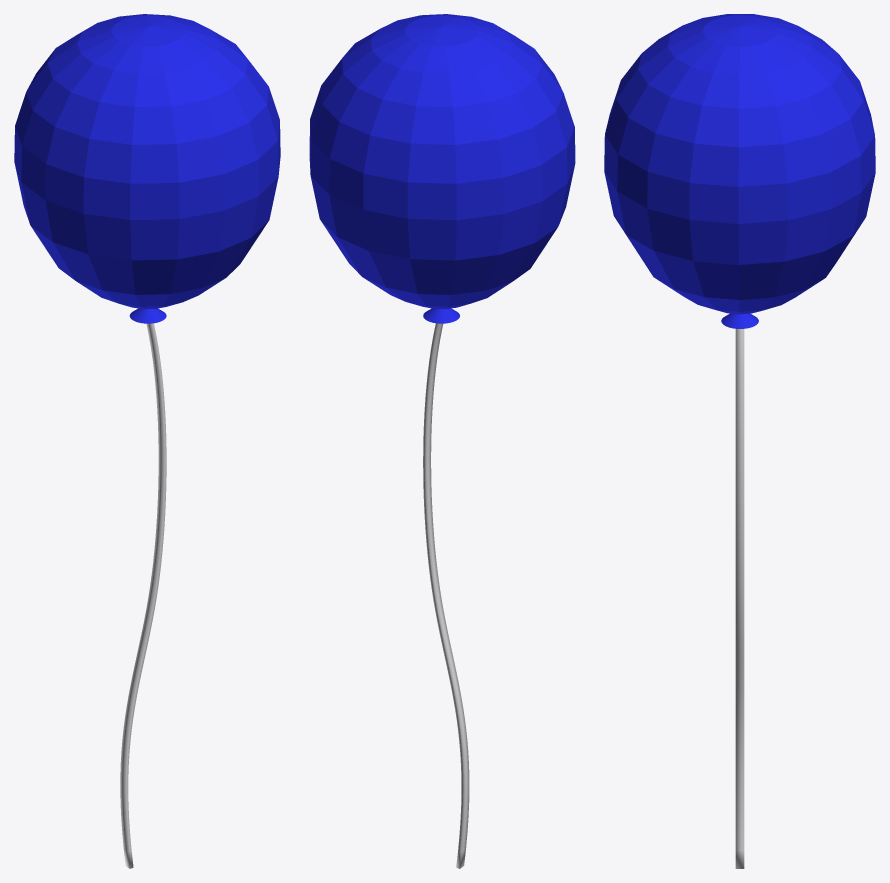
File: singleBalloon.fbx
3 views of the same model, side by side, from view 1: azimuth 30°, elevation 25°; view 2: azimuth 150°, elevation 25°; view 3: azimuth 270°, elevation 25° (orthographic).
Visible parts, largest first — view 1: balloon.008, balloonString; view 2: balloon.008, balloonString; view 3: balloon.008, balloonString.
Boxes of the visible parts, bbox=[...] form: balloon.008: bbox=[14, 14, 280, 323]; balloonString: bbox=[120, 323, 166, 868]; balloon.008: bbox=[309, 14, 575, 323]; balloonString: bbox=[423, 323, 469, 868]; balloon.008: bbox=[604, 14, 875, 328]; balloonString: bbox=[735, 329, 744, 868].
Size of the model in its own units: 186 by 647 by 187.
